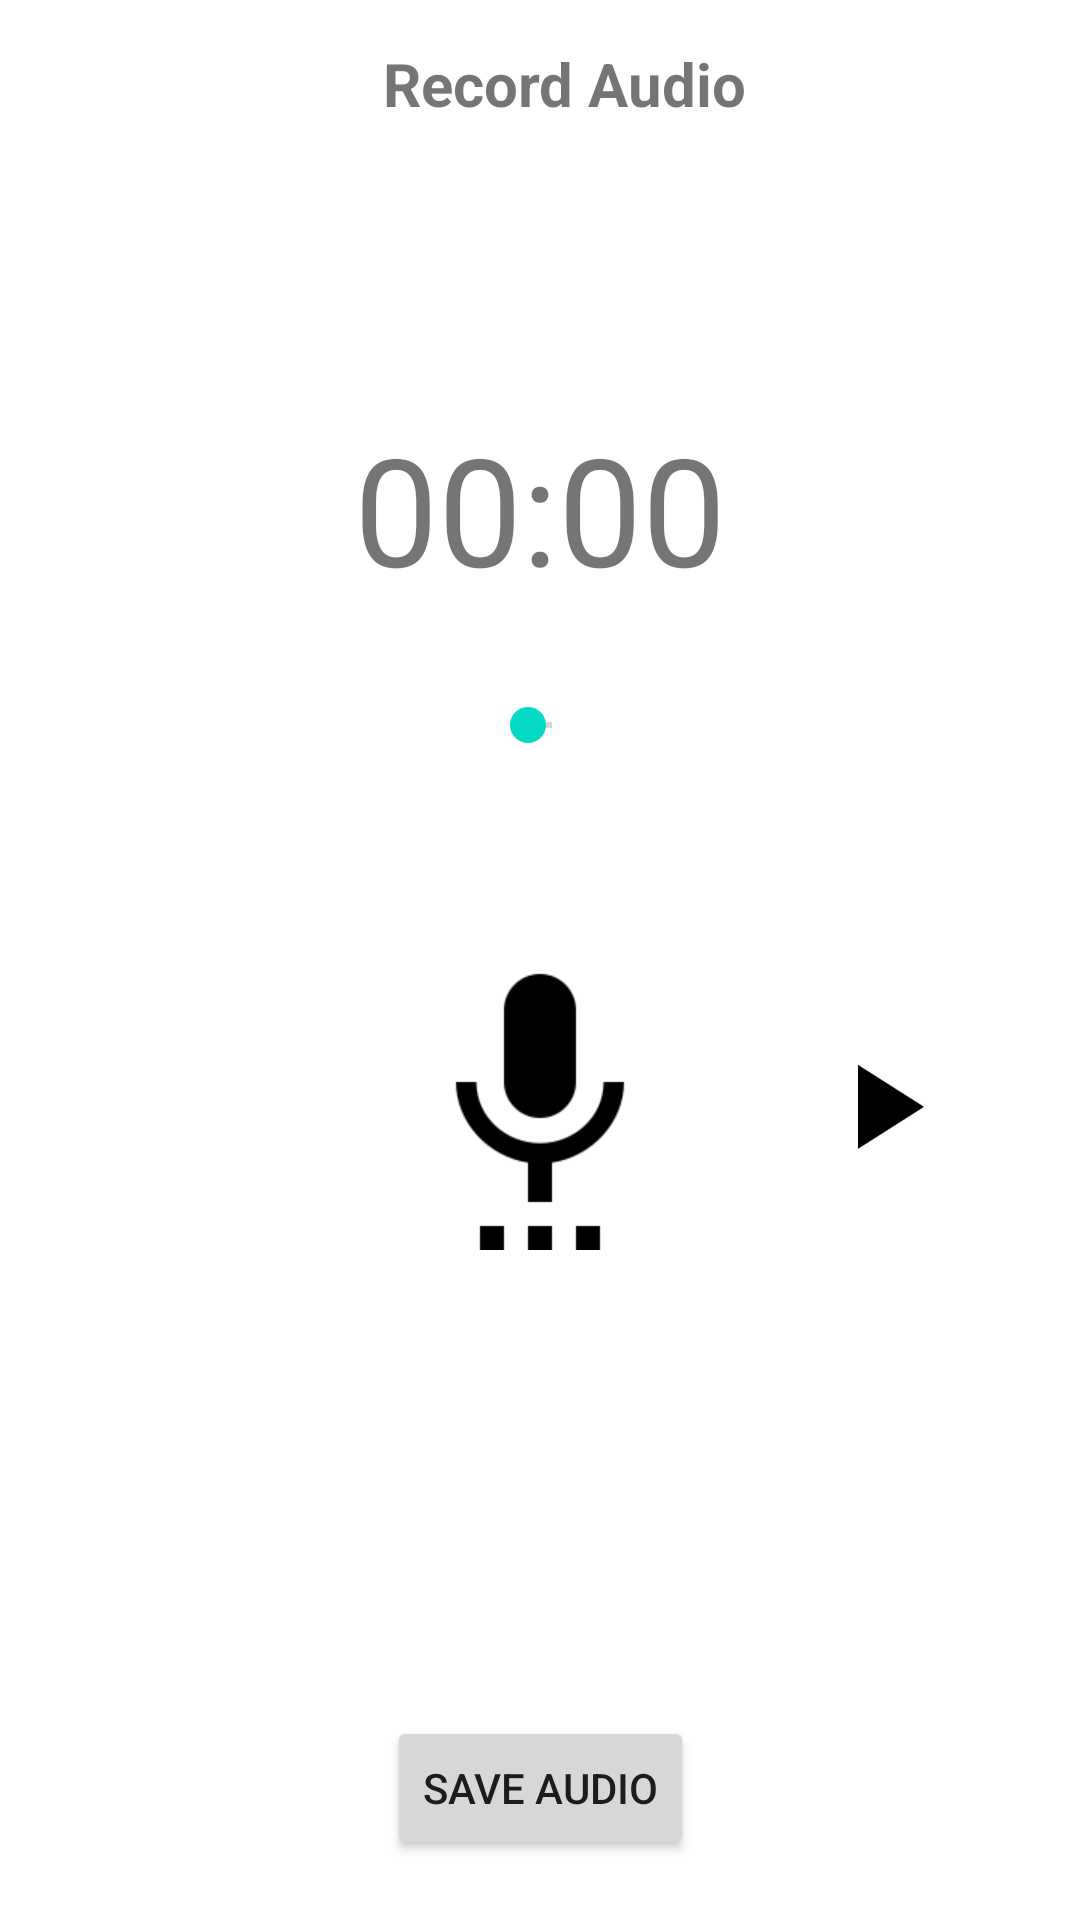

Icon click points for this 1080 x 1920 phone screenshot, format [x,y]:
microphone settings: [540,1111]
play: [891,1107]
